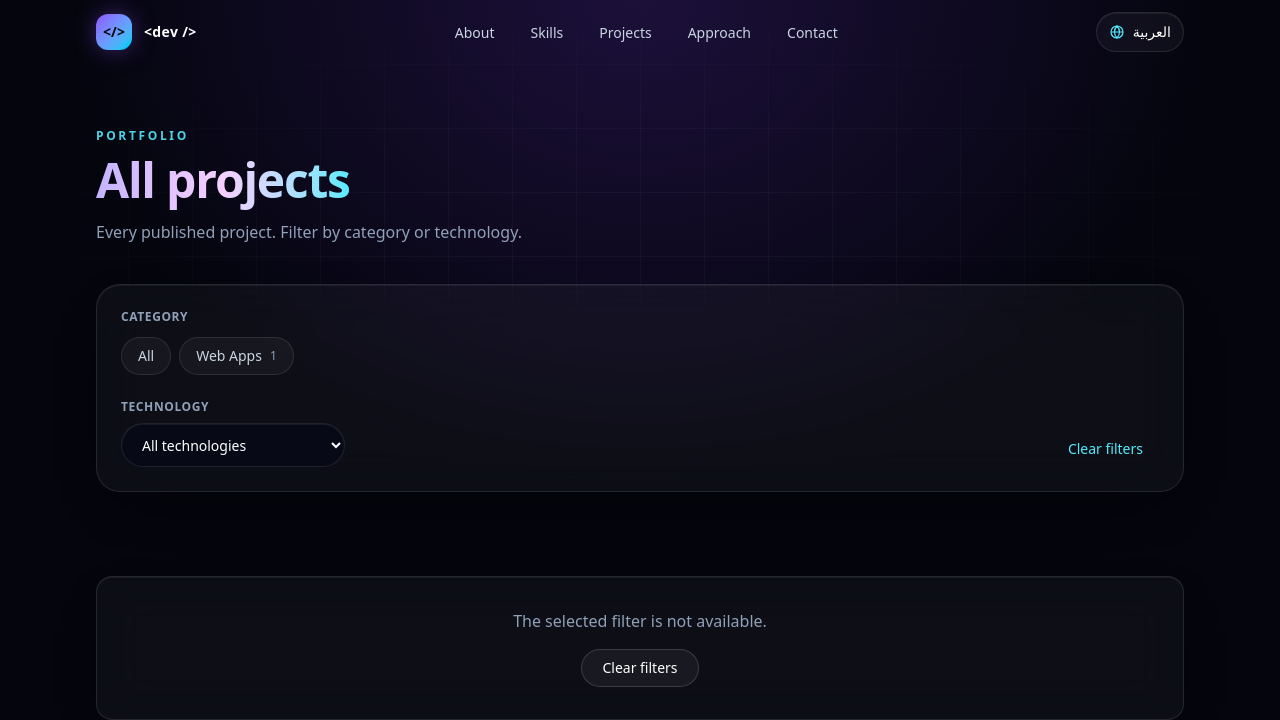
Scenario: Projects page — filters › explains a filter the API does not know (422) instead of offering a useless retry
Expected: the message "The selected filter is not available. Clear filters" is shown, x1=96 y1=576 x2=1184 y2=719
Step 1. Click the link "Clear filters" below "The selected filter is not available." → (640, 668), box x1=581 y1=649 x2=698 y2=687
(page scrolled)
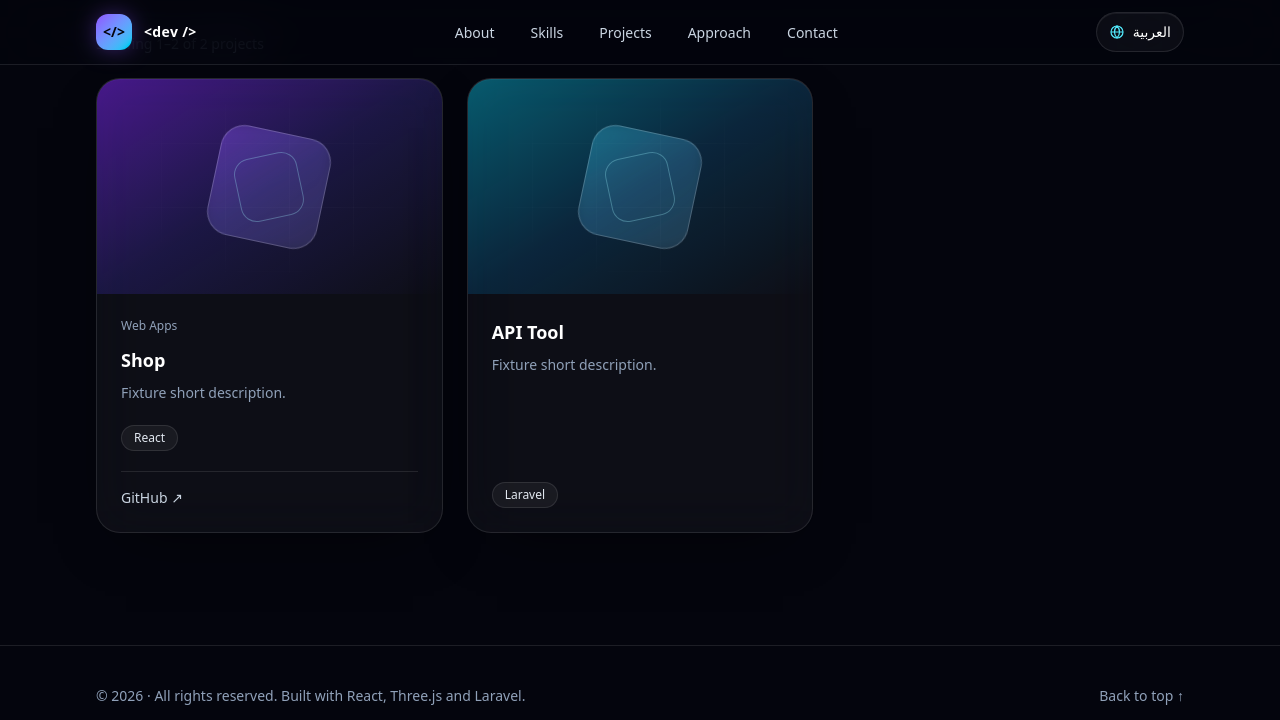
Now the link "Shop" is shown, box x1=121 y1=348 x2=165 y2=372
